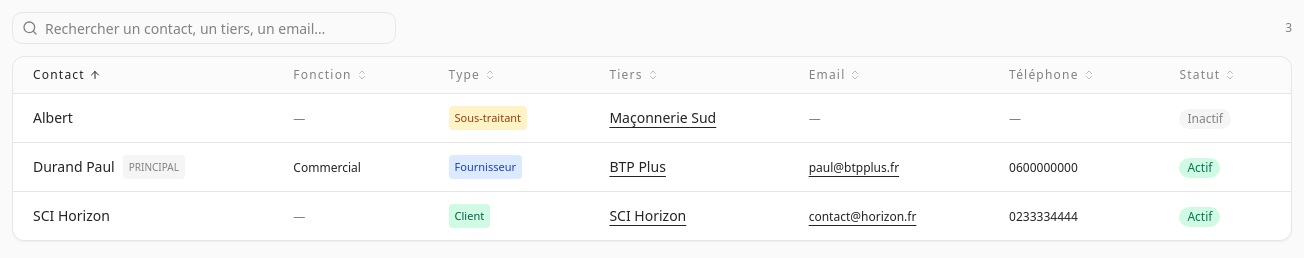
Test: ContactsTable › recherche filtre par nom de tiers
Type "horizon" into the search field labelled "Rechercher" at [204, 28], box [12,12,396,44]
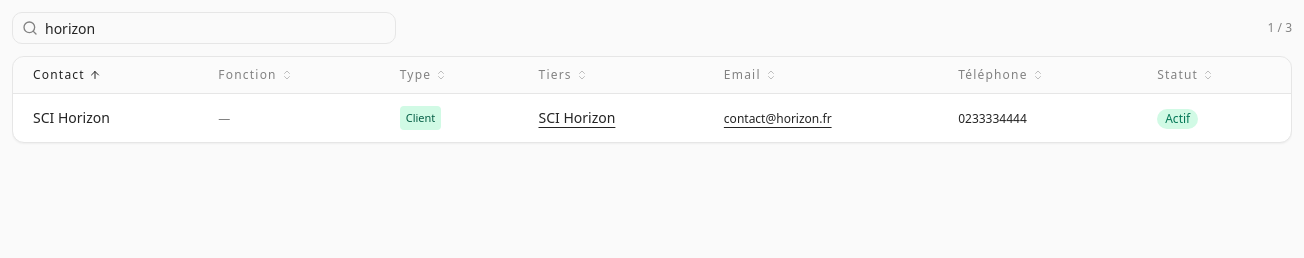
Expected: the link "SCI Horizon" is shown, [538,108,615,127]
Result: the text "Durand Paul" is gone
Result: the text "Albert" is gone
